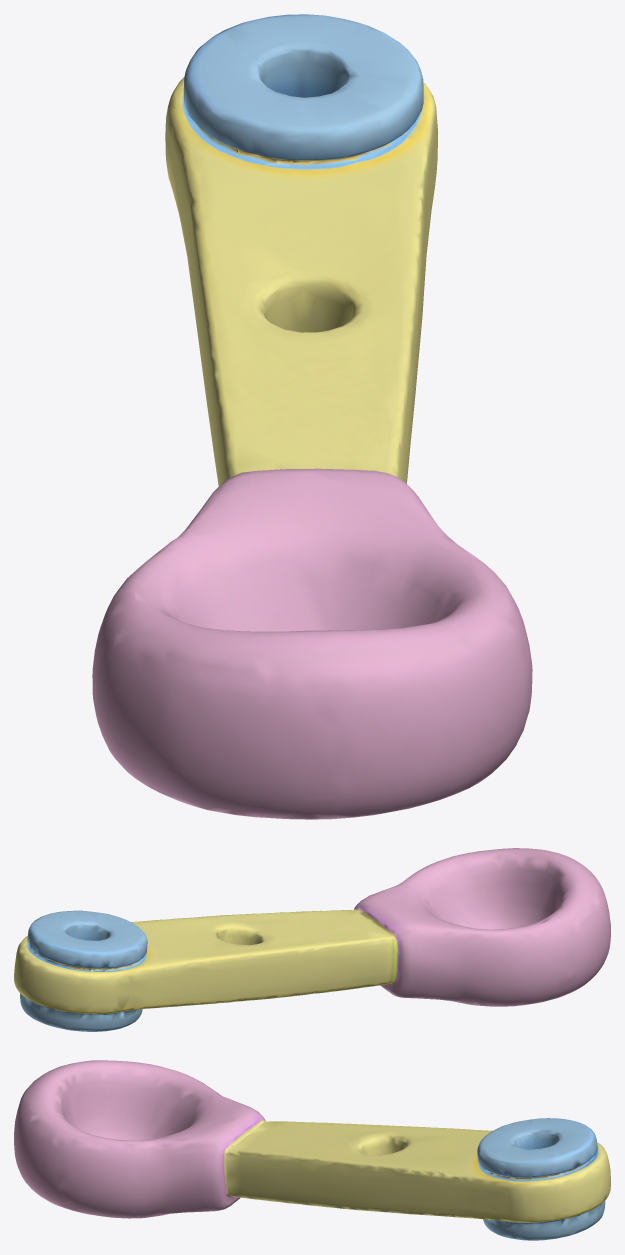
3 renders of one model, top to bottom at view 1: azimuth 30°, elevation 25°; view 2: azimuth 150°, elevation 25°; view 3: azimuth 270°, elevation 25°, orthographic. The views are drawn at different scales.
Parts seen in each view (by area): view 1: repaired; view 2: repaired; view 3: repaired.
Boxes of the visible parts, left/top/right/bottom form: repaired: left=92, top=14, right=532, bottom=819; repaired: left=14, top=848, right=610, bottom=1031; repaired: left=14, top=1060, right=610, bottom=1240.
Bounding box in the file's own units: 0.6957 × 0.2885 × 0.9995.
1 material, 1 textured.
